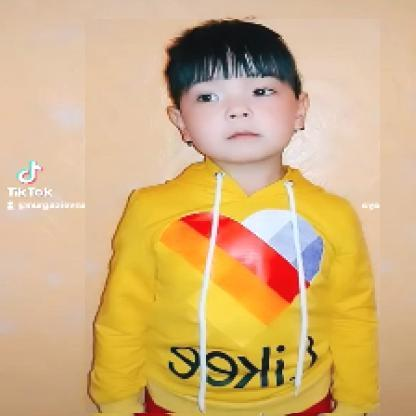child: (86, 20, 382, 415)
